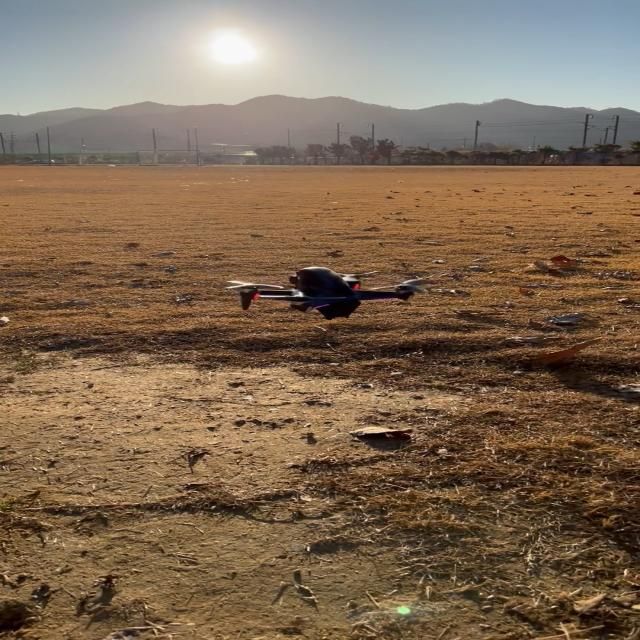Drone: (239, 266, 417, 319)
